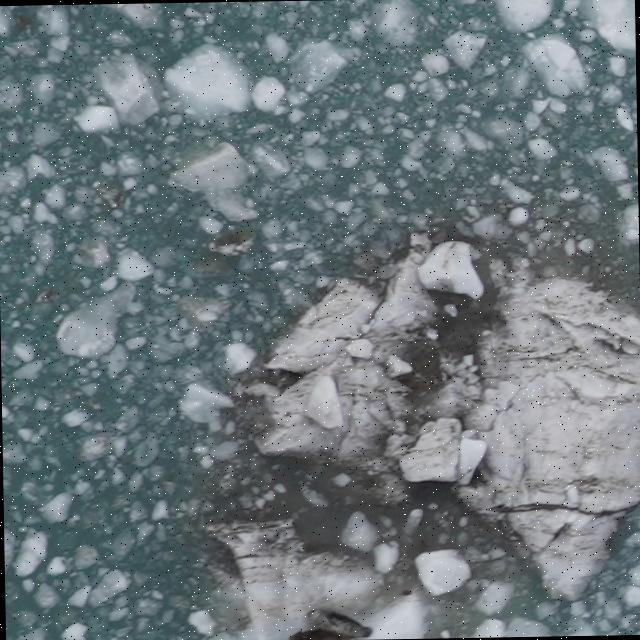seal: (301, 601, 377, 640), (253, 626, 377, 640)
